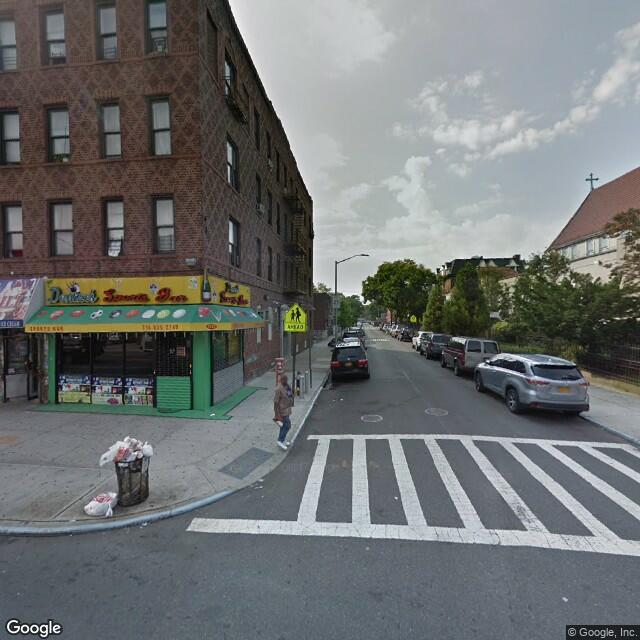litter: (561, 595, 570, 604), (209, 410, 217, 419), (141, 522, 149, 529), (393, 496, 400, 502), (330, 398, 337, 404), (257, 477, 264, 483), (340, 397, 345, 404)
